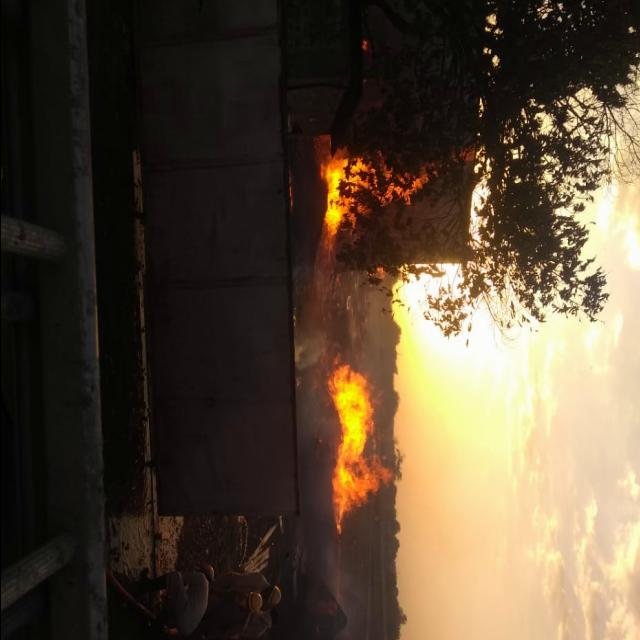firerotation: (326, 358, 396, 534), (320, 139, 438, 237)
